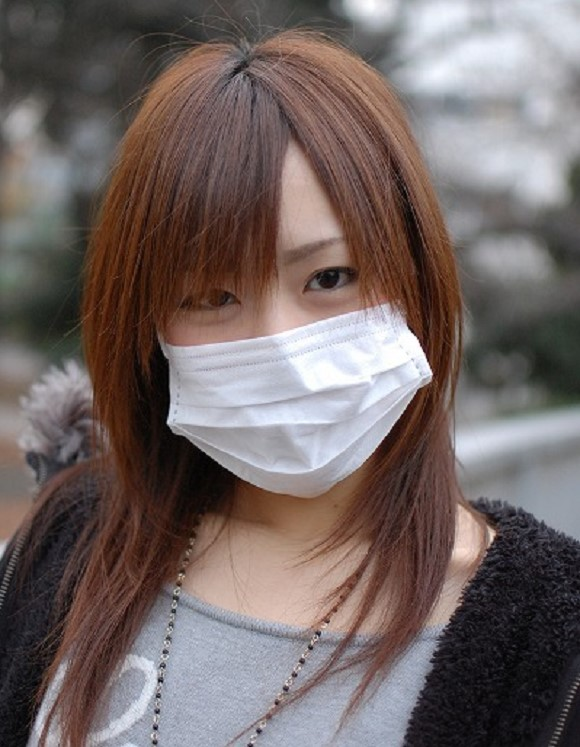face_with_mask: (127, 102, 455, 530)
